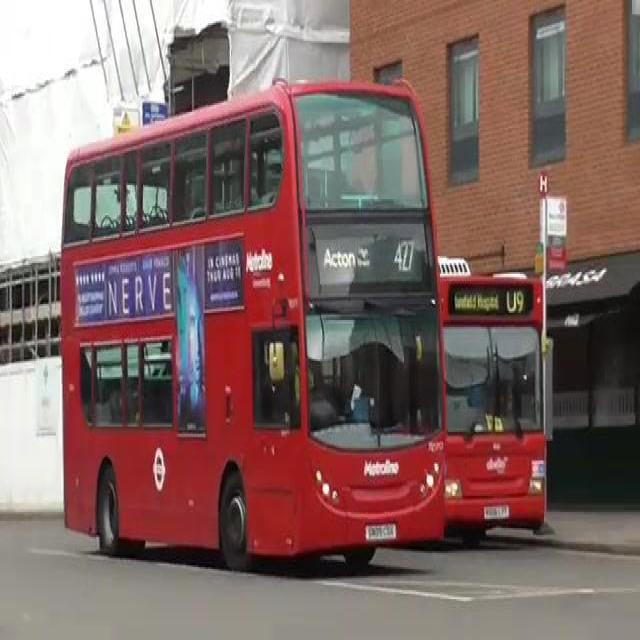motorcycle: (33, 73, 470, 558), (436, 260, 555, 544)
